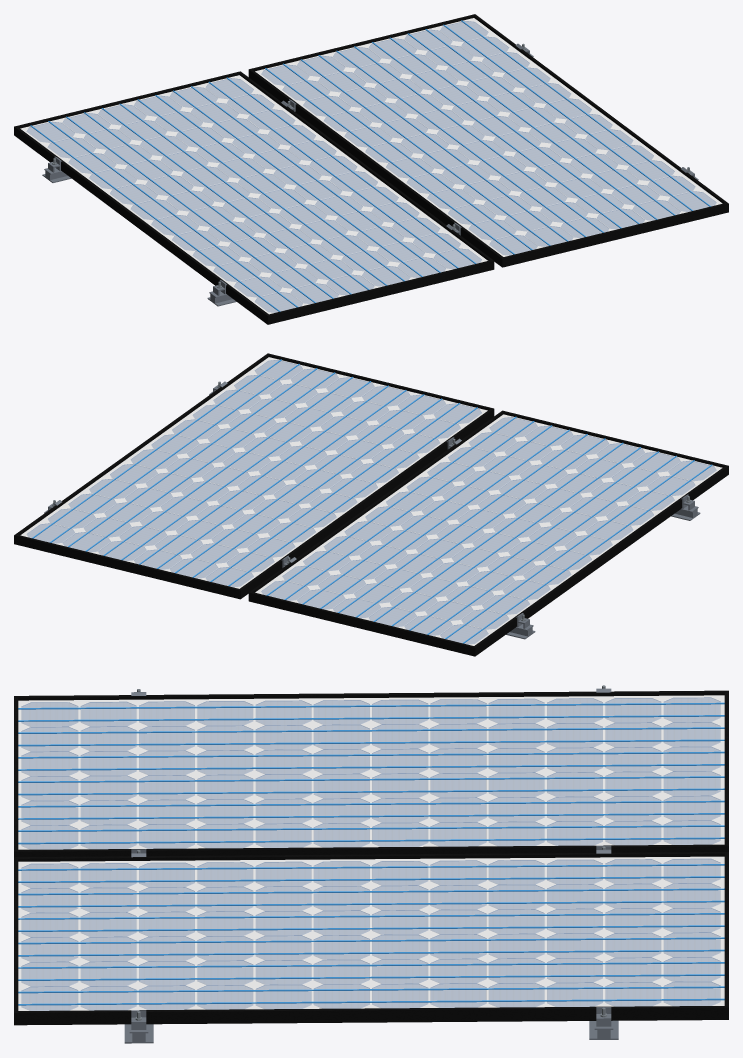
File: solar_panel.glb
3 renders of one model, top to bottom at view 1: azimuth 30°, elevation 25°; view 2: azimuth 150°, elevation 25°; view 3: azimuth 270°, elevation 25°, orthographic. The views are drawn at different scales.
Parts seen in each view (by area): view 1: 10781_Solar-Panels_V1; view 2: 10781_Solar-Panels_V1; view 3: 10781_Solar-Panels_V1.
Boxes of the visible parts, x1=… form: 10781_Solar-Panels_V1: x1=14, y1=14, x2=728, y2=324; 10781_Solar-Panels_V1: x1=14, y1=353, x2=728, y2=656; 10781_Solar-Panels_V1: x1=14, y1=685, x2=728, y2=1043.
Bounding box in the file's own units: 167 × 26.2 × 152.
3 materials, 2 textured.
